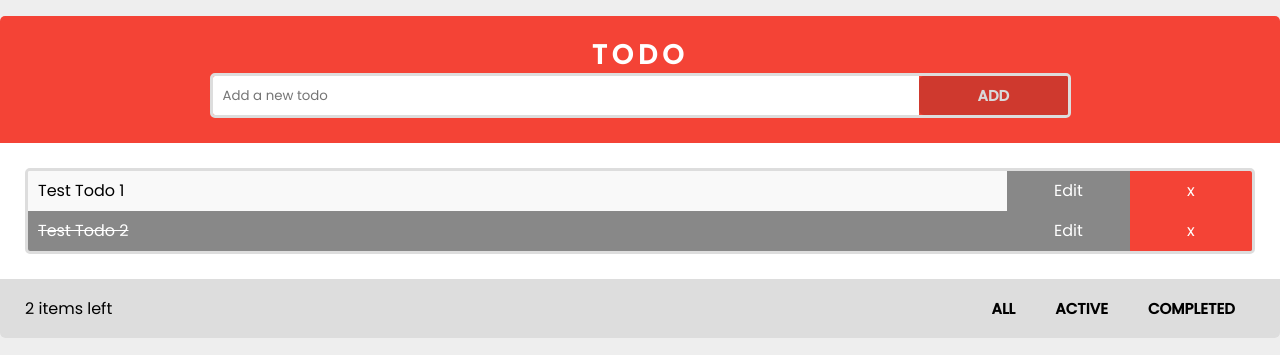
Test case: TodoComp › deletes a todo
The image size is (1280, 355).
Expected: the text "Test Todo 1" is shown, x1=38 y1=179 x2=124 y2=202
Click the text "x" in the row of "Test Todo 1".
click(1191, 191)  # box x1=1130 y1=171 x2=1252 y2=211
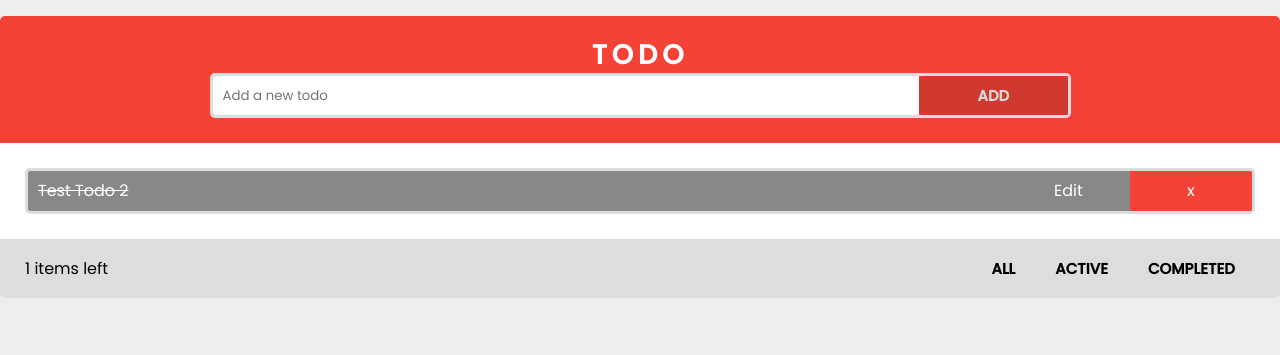
Result: the text "Test Todo 1" is gone
